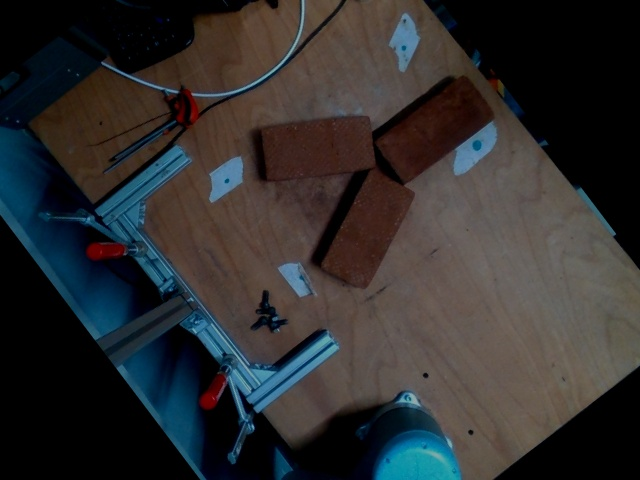brick: (373, 76, 494, 181), (320, 168, 414, 291), (262, 114, 372, 181)
